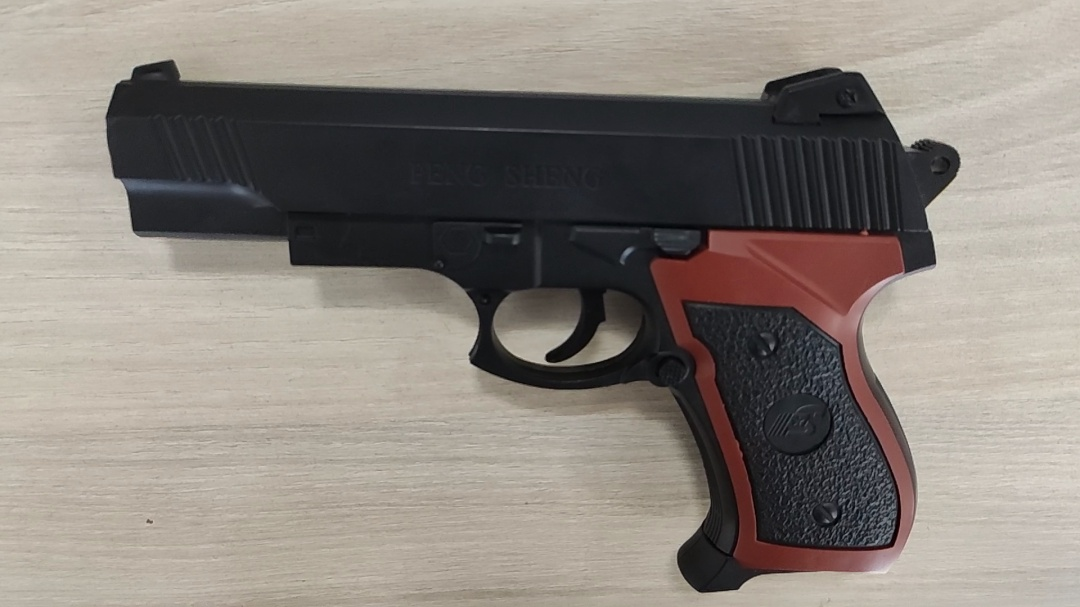gun: (104, 58, 959, 594)
